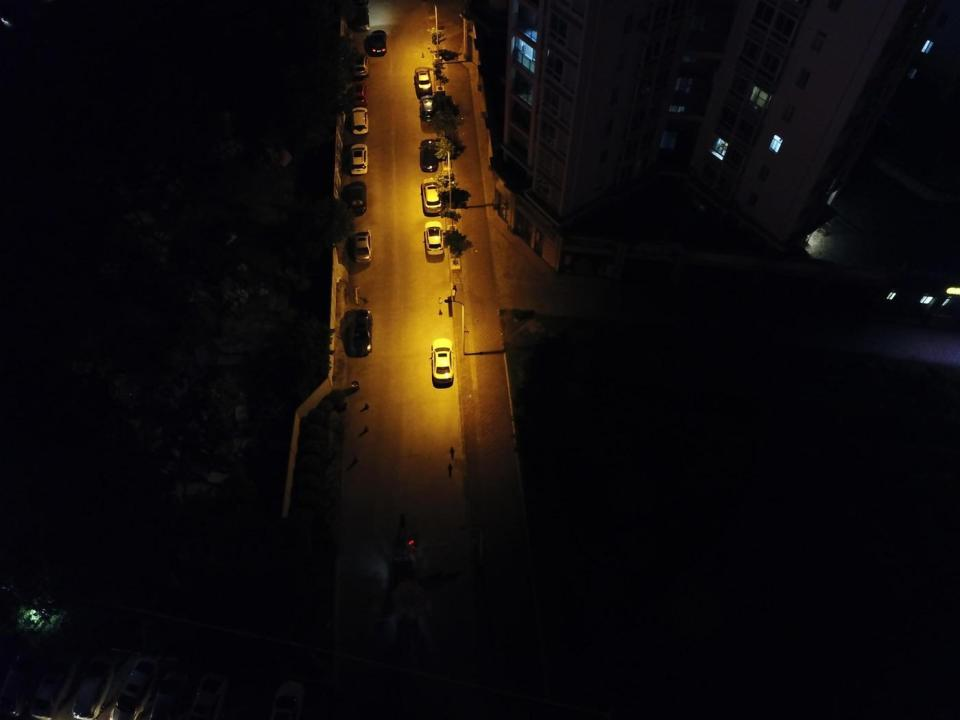car: (430, 338, 454, 383), (351, 309, 373, 357), (421, 178, 444, 213), (423, 220, 445, 255), (418, 138, 439, 173), (347, 181, 367, 215), (354, 227, 372, 263), (349, 2, 370, 32), (349, 143, 368, 175), (350, 106, 368, 134), (414, 66, 432, 94), (370, 29, 388, 57), (419, 94, 436, 122), (352, 54, 370, 77)
van: (352, 80, 369, 103)
